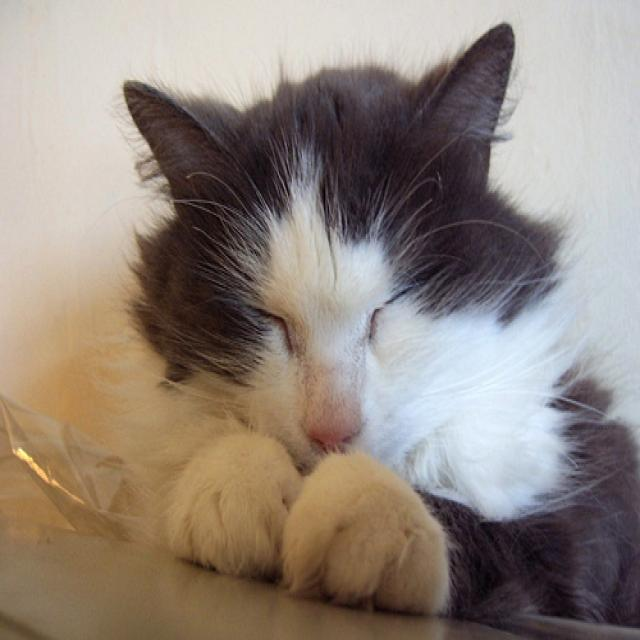left eye: (362, 283, 407, 350), (362, 298, 388, 346)
